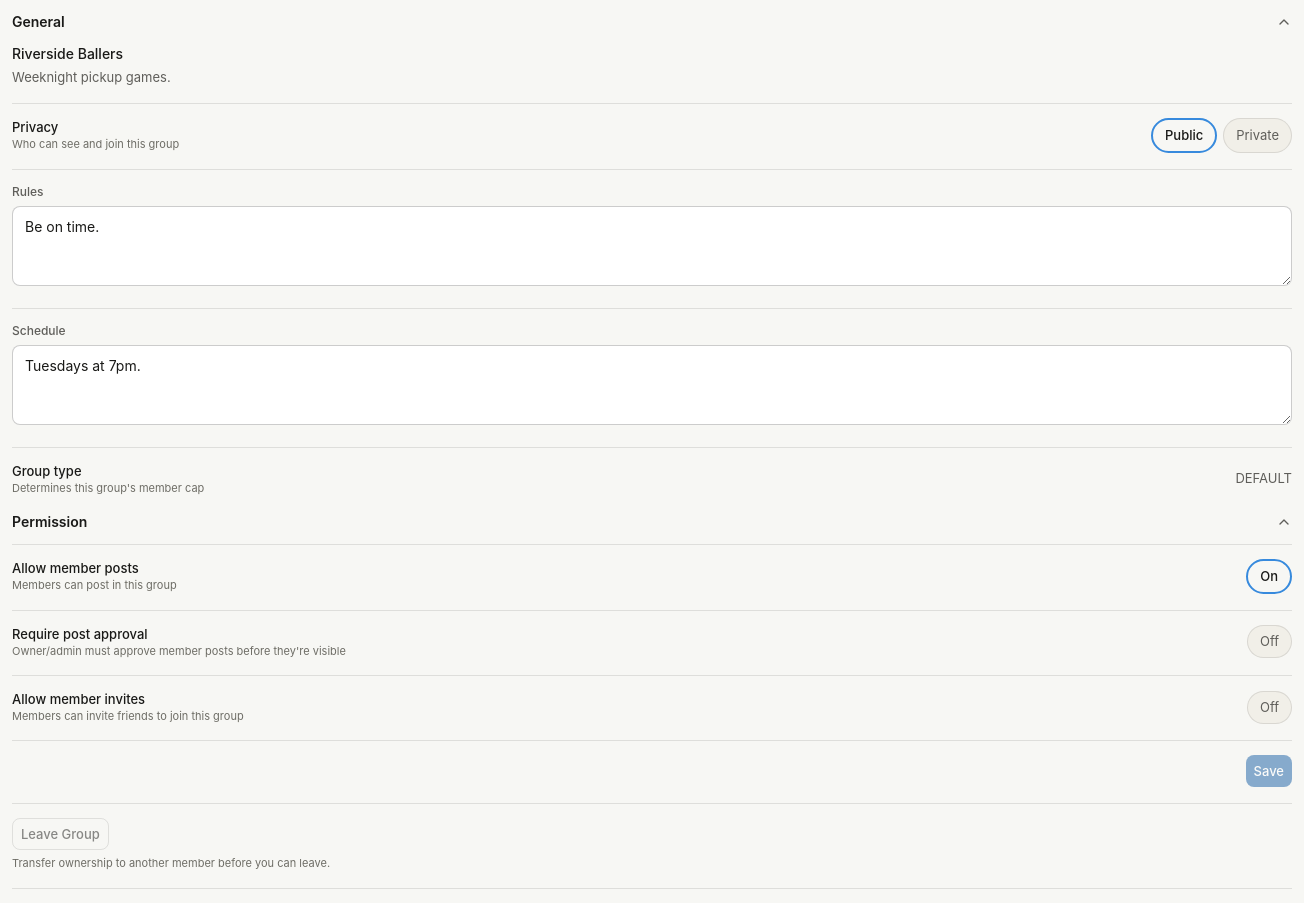
Scenario: GroupSettingsTab › collapsing General hides its content but leaves Permission open
The width and height of the screenshot is (1304, 903).
Click the button "General".
click(38, 22)  # box [12,12,1292,32]
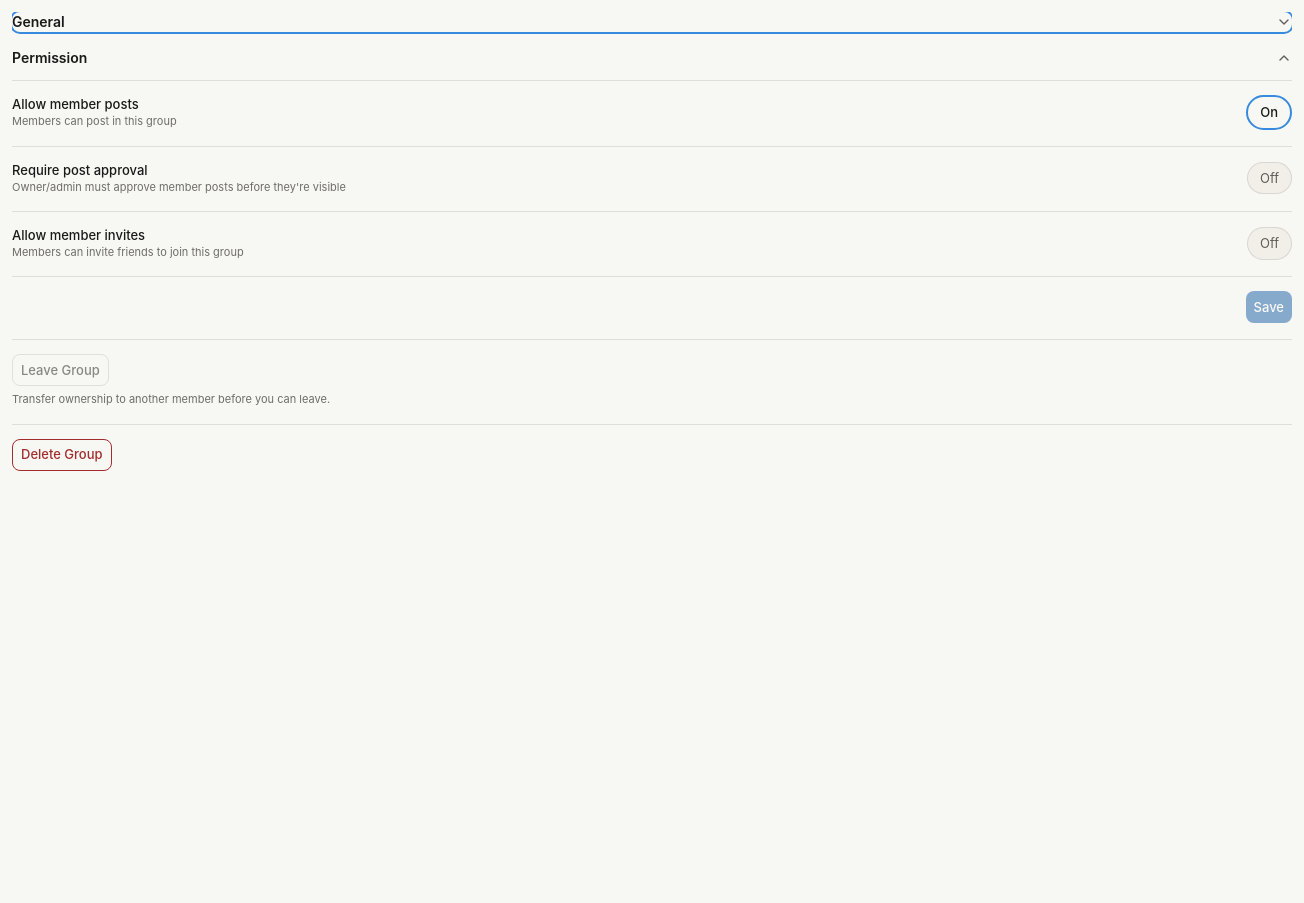
Expected: the text "Allow member posts" is shown, [12,96,139,112]
Expected: the text "Privacy" is gone
